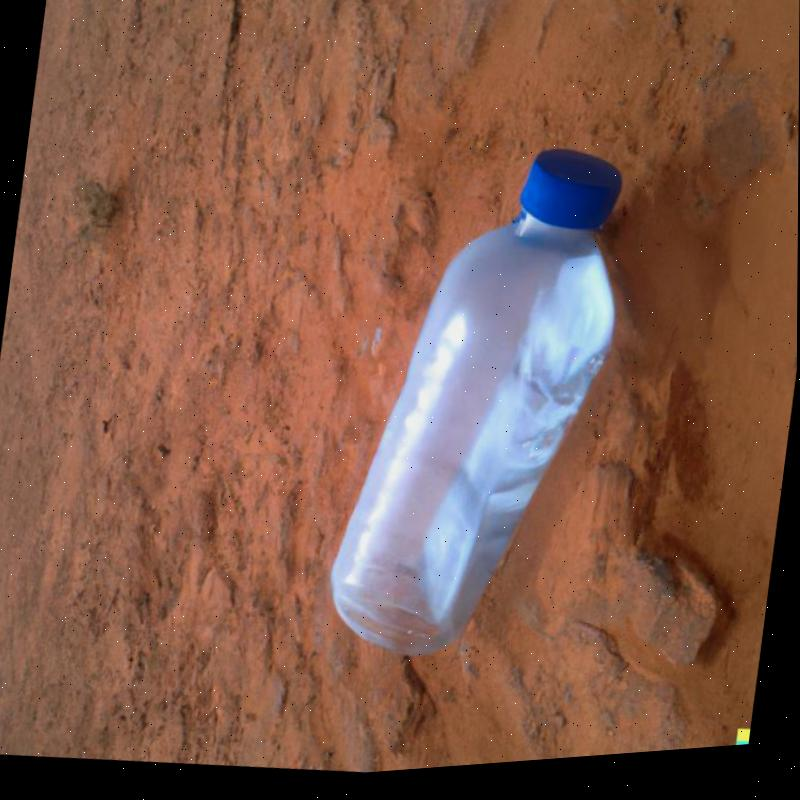botella: (318, 132, 642, 684)
